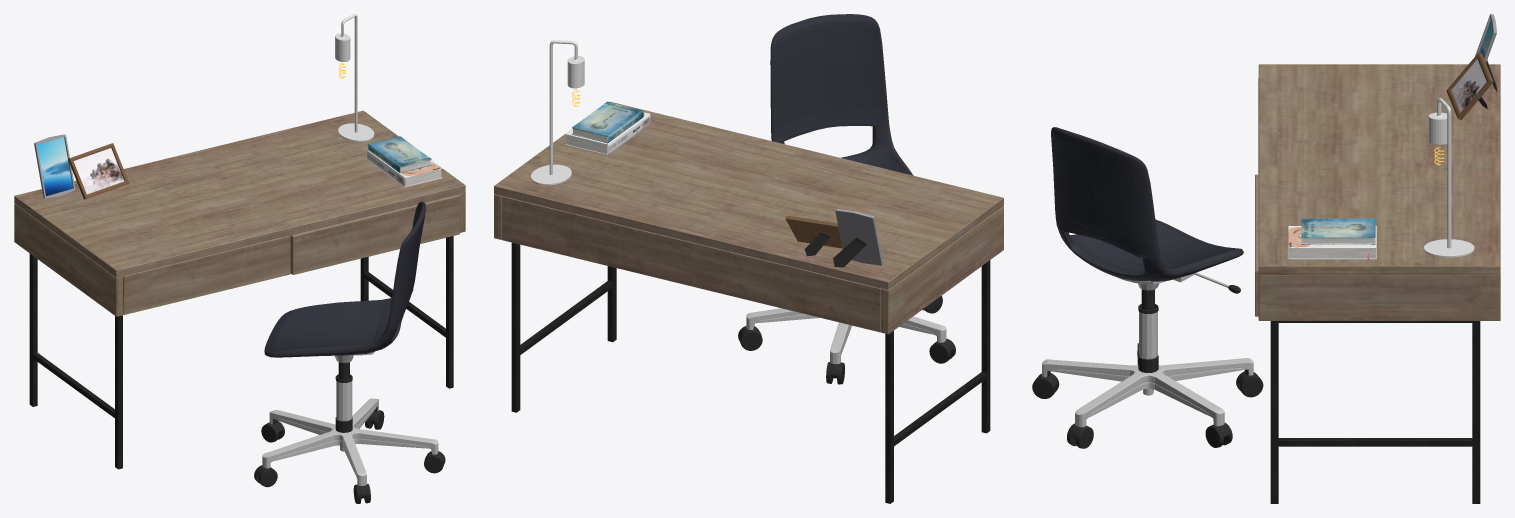
File: single_desk.glb
The picture shows the model from 3 angles, left to right: view 1: azimuth 30°, elevation 25°; view 2: azimuth 150°, elevation 25°; view 3: azimuth 270°, elevation 25°; orthographic projection. The views are drawn at different scales.
Parts seen in each view (by area): view 1: wood_desk_8_n0, wood_desk_chair_0_n1, wood_desk_7_n0, wood_desk_6_n0, wood_desk_3_n0, wood_desk_0_n0, wood_desk_5_n0, wood_desk_1_n0, wood_desk_2_n0; view 2: wood_desk_8_n0, wood_desk_chair_0_n1, wood_desk_0_n0, wood_desk_5_n0, wood_desk_1_n0, wood_desk_3_n0, wood_desk_2_n0; view 3: wood_desk_8_n0, wood_desk_chair_0_n1, wood_desk_5_n0, wood_desk_1_n0, wood_desk_3_n0, wood_desk_2_n0, wood_desk_0_n0, wood_desk_6_n0.
Part boxes in pixels (left/top/right/bottom): wood_desk_8_n0: left=14, top=110, right=465, bottom=469; wood_desk_chair_0_n1: left=254, top=201, right=445, bottom=503; wood_desk_7_n0: left=123, top=235, right=290, bottom=314; wood_desk_6_n0: left=290, top=194, right=459, bottom=274; wood_desk_3_n0: left=68, top=143, right=129, bottom=199; wood_desk_0_n0: left=34, top=134, right=75, bottom=198; wood_desk_5_n0: left=335, top=14, right=374, bottom=141; wood_desk_1_n0: left=368, top=136, right=431, bottom=173; wood_desk_2_n0: left=367, top=150, right=442, bottom=187; wood_desk_8_n0: left=494, top=101, right=1003, bottom=503; wood_desk_chair_0_n1: left=738, top=14, right=955, bottom=384; wood_desk_0_n0: left=833, top=208, right=883, bottom=267; wood_desk_5_n0: left=531, top=40, right=584, bottom=185; wood_desk_1_n0: left=572, top=101, right=643, bottom=143; wood_desk_3_n0: left=785, top=215, right=842, bottom=255; wood_desk_2_n0: left=565, top=112, right=650, bottom=155; wood_desk_8_n0: left=1258, top=64, right=1500, bottom=503; wood_desk_chair_0_n1: left=1032, top=127, right=1263, bottom=448; wood_desk_5_n0: left=1424, top=98, right=1474, bottom=257; wood_desk_1_n0: left=1301, top=218, right=1375, bottom=244; wood_desk_3_n0: left=1446, top=52, right=1493, bottom=120; wood_desk_2_n0: left=1288, top=226, right=1376, bottom=259; wood_desk_0_n0: left=1475, top=14, right=1497, bottom=91; wood_desk_6_n0: left=1255, top=174, right=1258, bottom=316.
Size of the model in its own units: 1.36 by 1.21 by 1.33.
8 materials, 8 textured.
